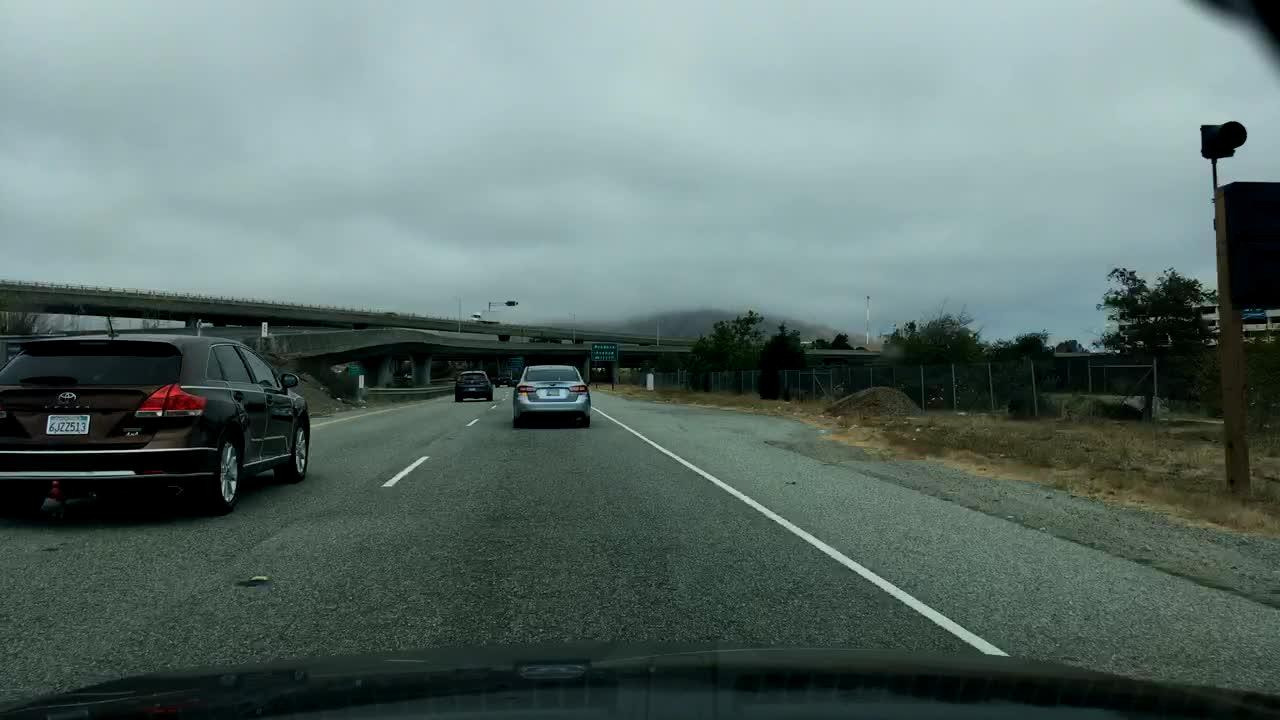Toyota: (54, 389, 83, 409)
